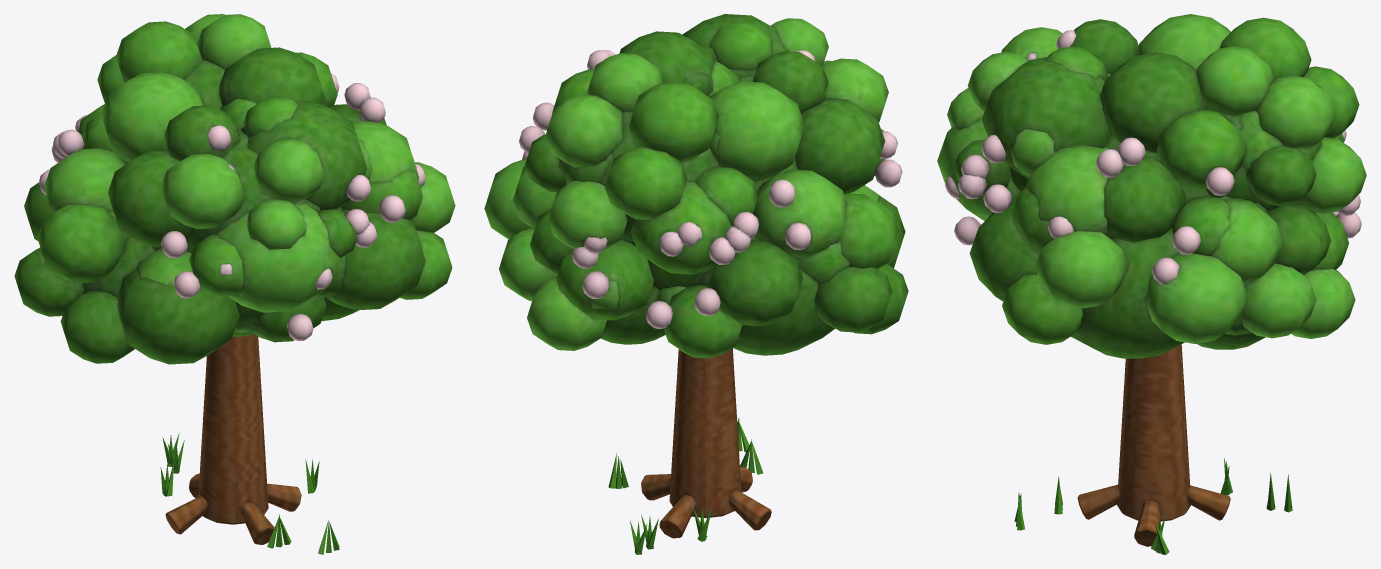
File: white_peach_tree.glb
3 views of the same model, side by side, from view 1: azimuth 30°, elevation 25°; view 2: azimuth 150°, elevation 25°; view 3: azimuth 270°, elevation 25° (orthographic). The views are drawn at different scales.
Parts seen in each view (by area): view 1: crown, white_peach_tree; view 2: crown, white_peach_tree; view 3: crown, white_peach_tree.
Part boxes in pixels (x1,y1,x2,y2): crown: [14, 14, 455, 364]; white_peach_tree: [160, 334, 339, 554]; crown: [484, 14, 908, 358]; white_peach_tree: [608, 348, 771, 554]; crown: [937, 14, 1366, 358]; white_peach_tree: [1014, 344, 1292, 554].
Size of the model in its own units: 1.13 by 1.3 by 1.03.
1 material, 1 textured.
